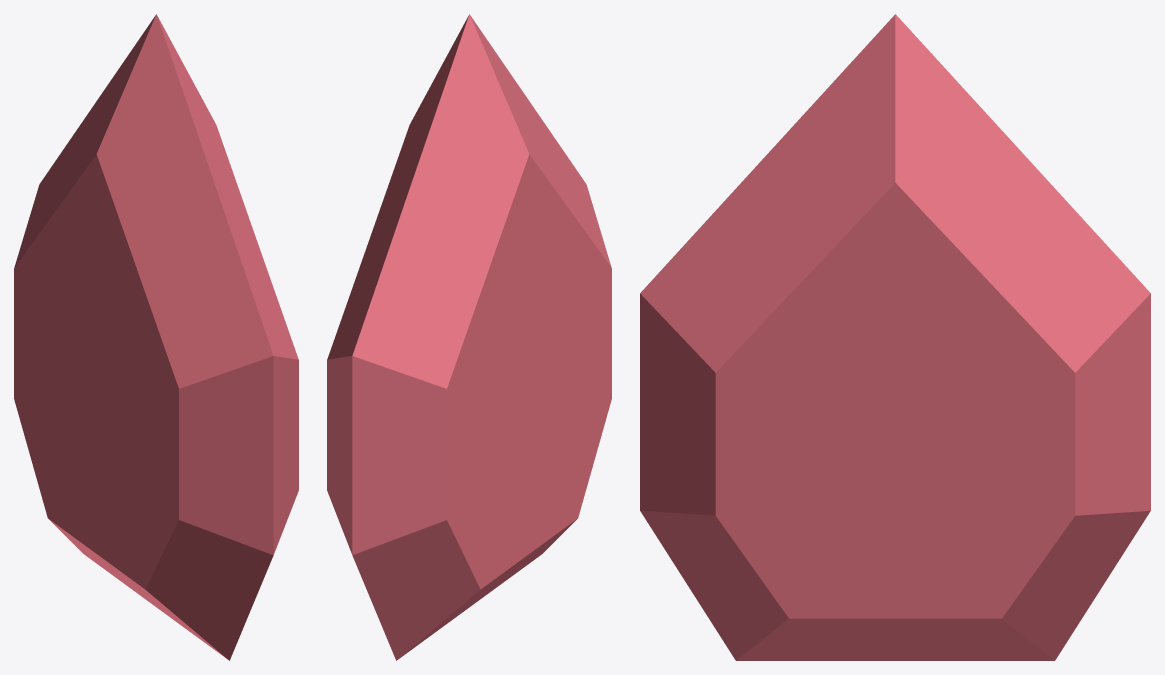
File: Garnet.fbx
3 renders of one model, left to right at view 1: azimuth 30°, elevation 25°; view 2: azimuth 150°, elevation 25°; view 3: azimuth 270°, elevation 25°, orthographic. The views are drawn at different scales.
Parts seen in each view (by area): view 1: Garnet; view 2: Garnet; view 3: Garnet.
Part boxes in pixels (<box>): Garnet: <box>14,14,298,660</box>; Garnet: <box>327,14,611,660</box>; Garnet: <box>640,14,1150,660</box>.
Size of the model in its own units: 21.21 by 100 by 71.85.
